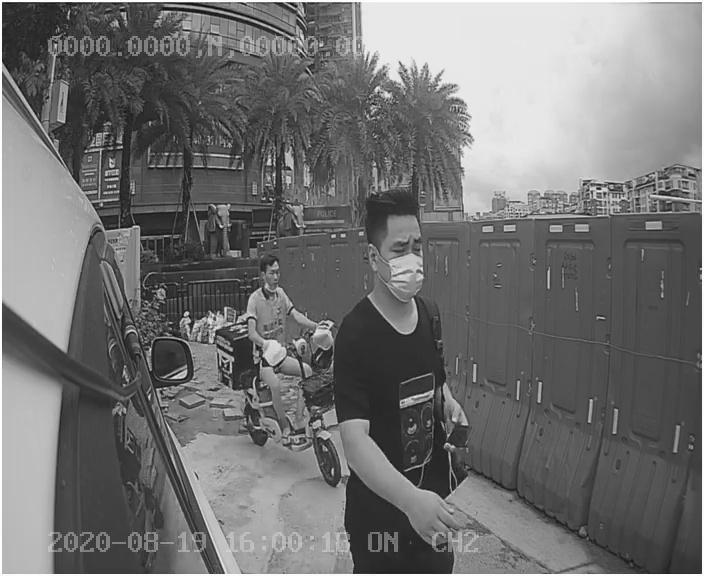person: (328, 187, 485, 532)
